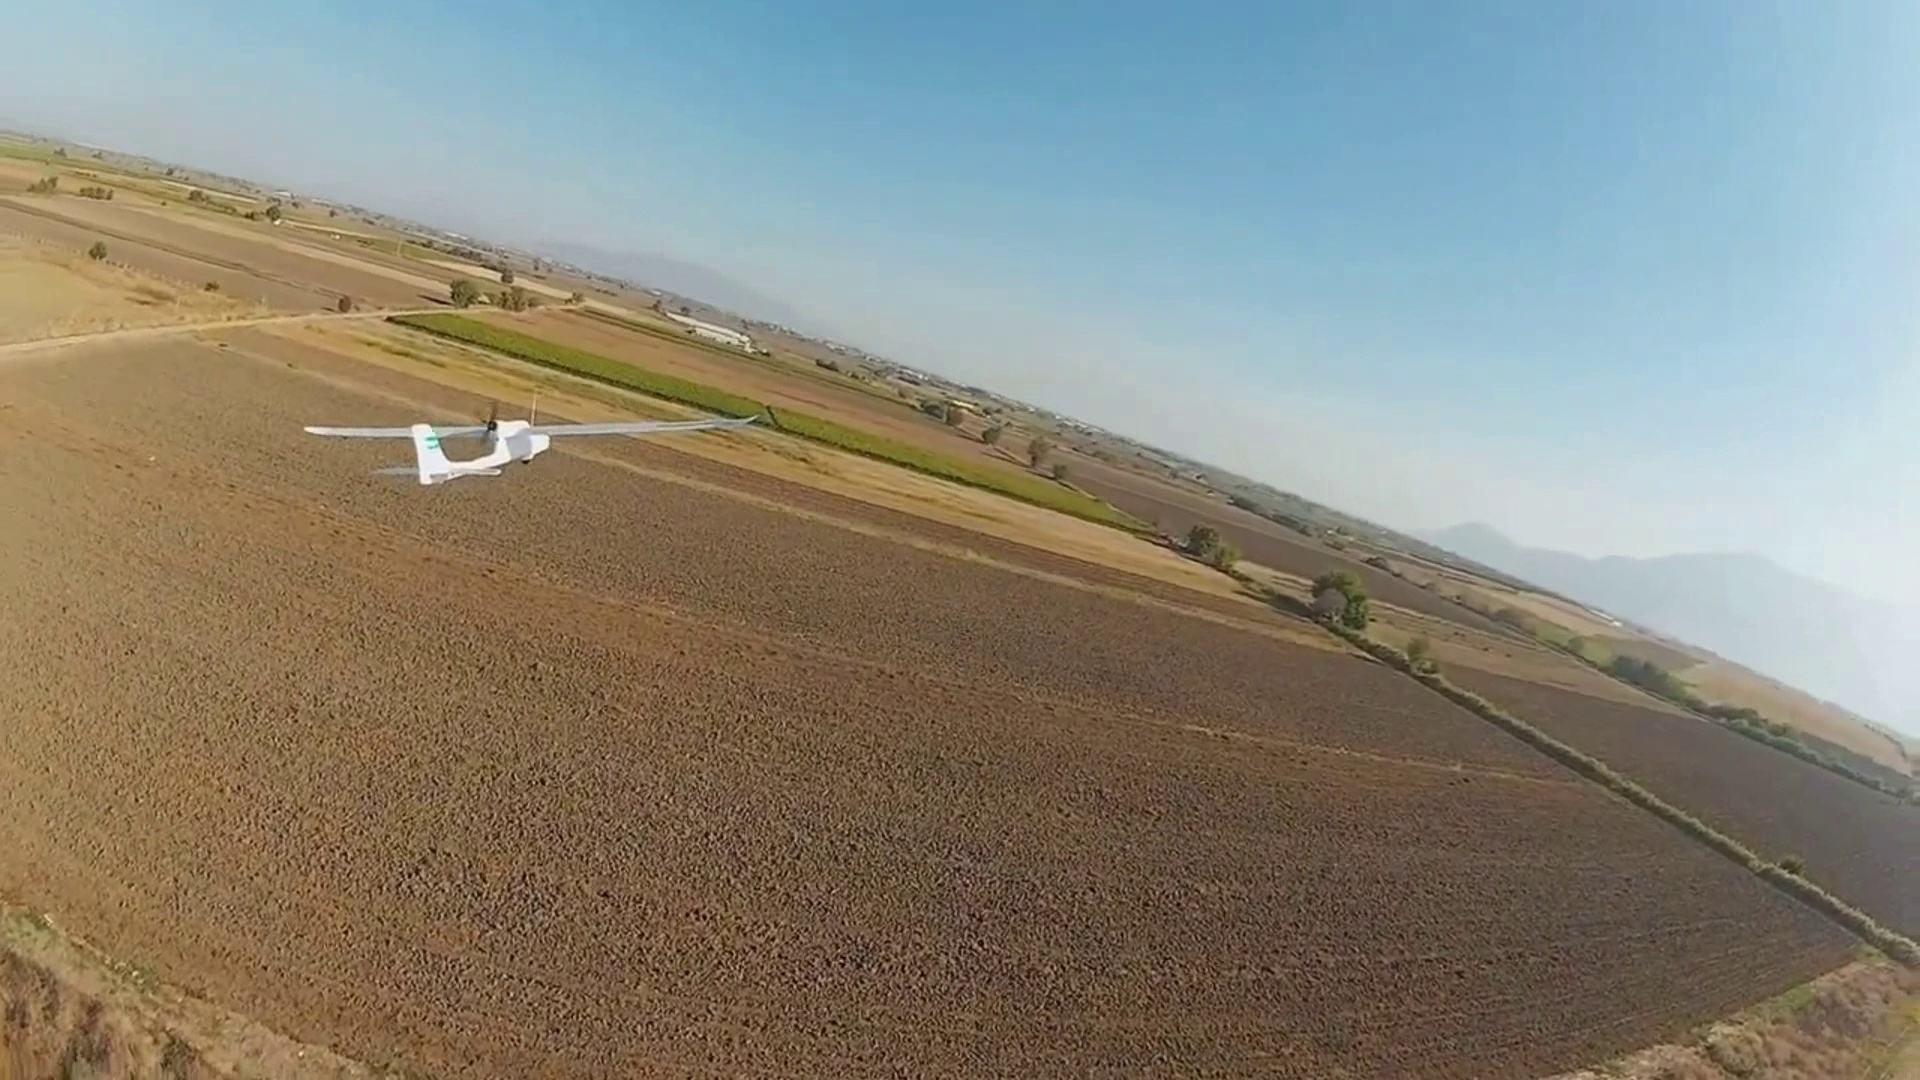airplane: (409, 415, 549, 479)
